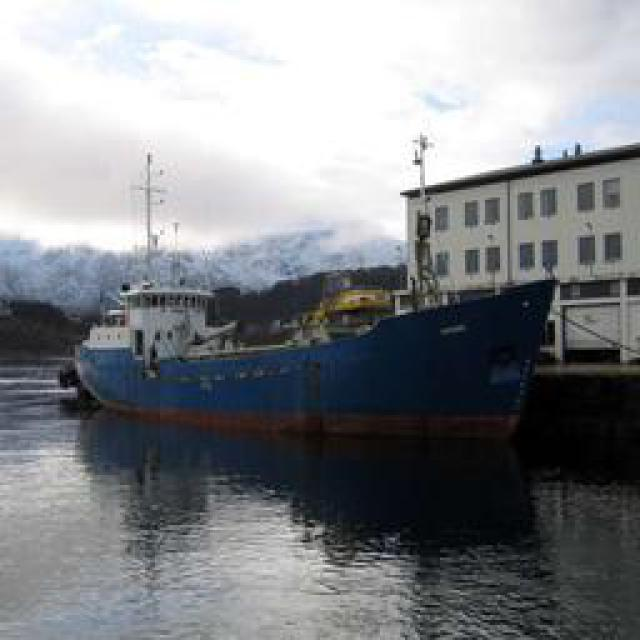Ship: (85, 274, 550, 434)
